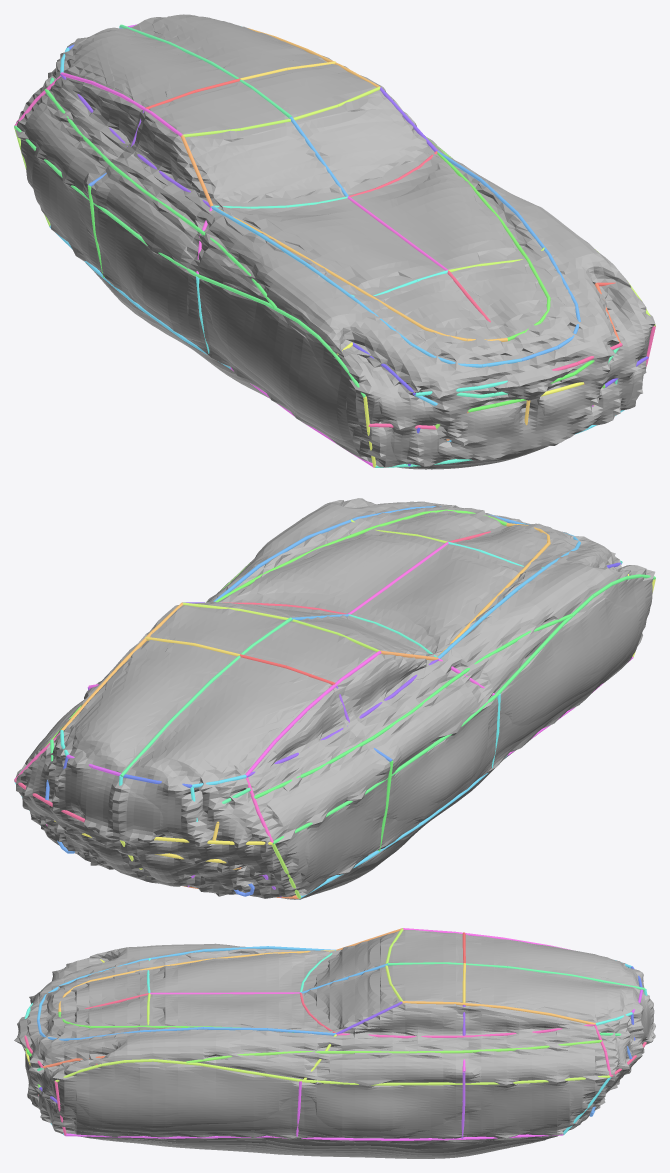
The model's file is ils_car1.gltf.
3 renders of one model, top to bottom at view 1: azimuth 30°, elevation 25°; view 2: azimuth 150°, elevation 25°; view 3: azimuth 270°, elevation 25°, orthographic. The views are drawn at different scales.
Bounding box in the file's own units: 0.3964 × 0.2831 × 0.9258.
